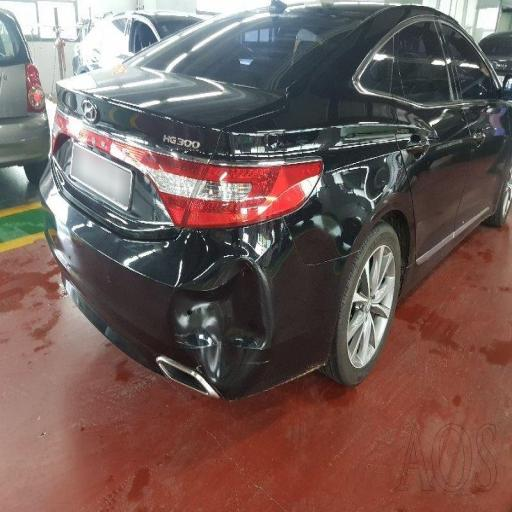dent: (133, 161, 305, 407)
